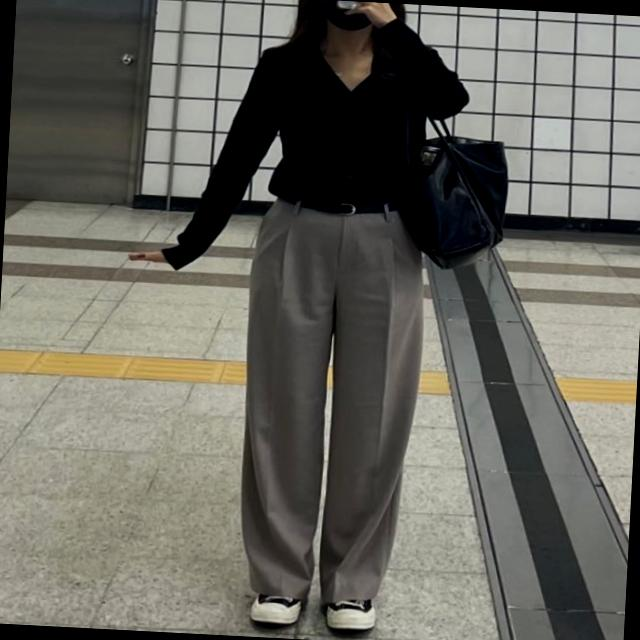cardigan: (157, 12, 470, 285)
slacks: (228, 200, 429, 630)
